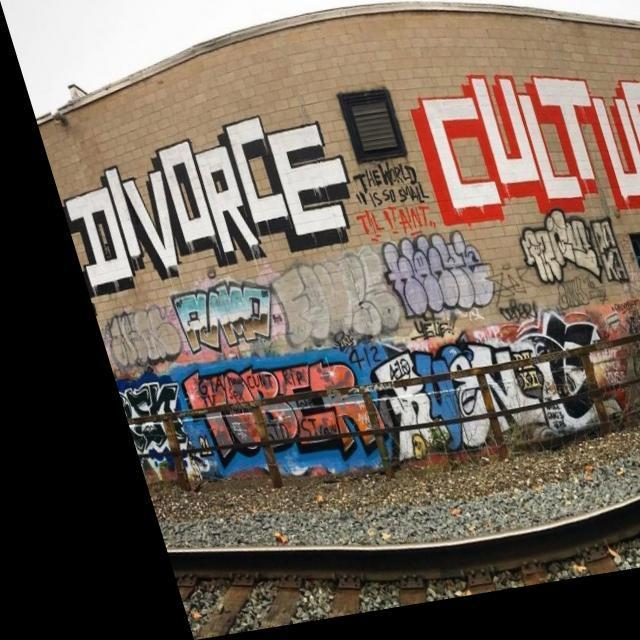-: (38, 118, 354, 301), (391, 59, 640, 274), (344, 335, 598, 475), (155, 354, 366, 484), (360, 240, 482, 334), (250, 264, 373, 351), (492, 226, 610, 312), (80, 310, 165, 372), (629, 348, 640, 432)
